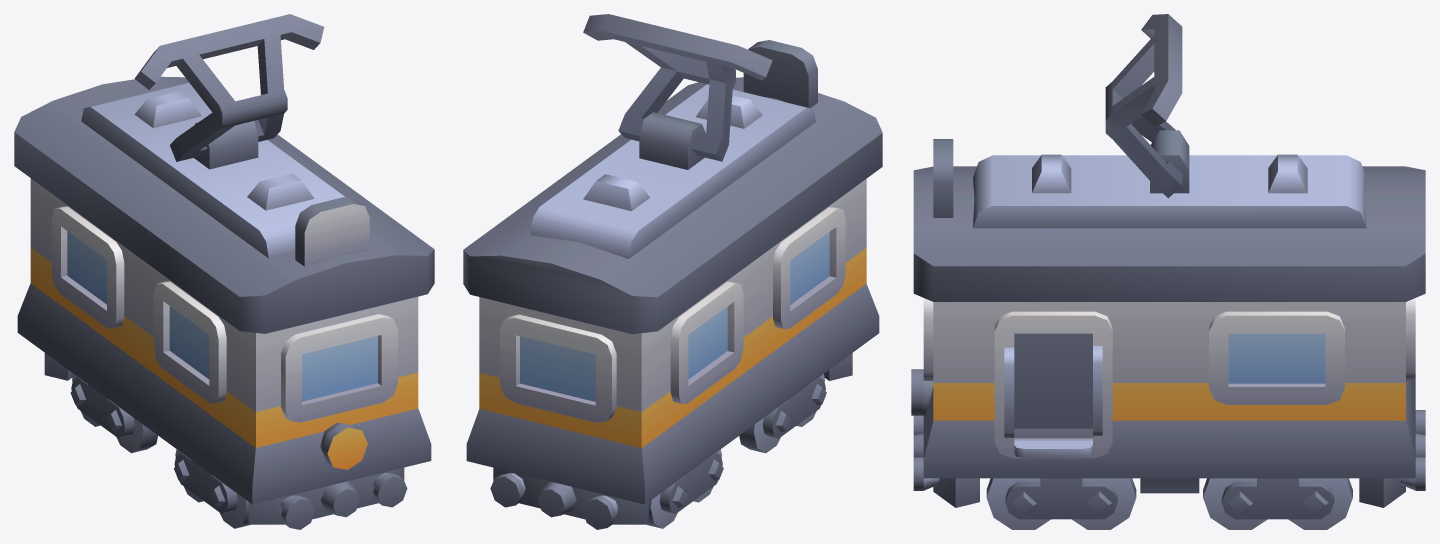
The model's file is k-train-train-tram-classic.glb.
3 renders of one model, left to right at view 1: azimuth 30°, elevation 25°; view 2: azimuth 150°, elevation 25°; view 3: azimuth 270°, elevation 25°, orthographic. The views are drawn at different scales.
Visible parts, largest first — view 1: train-tram-classic, collector, wheels-back, wheels-front; view 2: train-tram-classic, collector, wheels-front, wheels-back; view 3: train-tram-classic, collector, wheels-front, wheels-back.
Part boxes in pixels (left/top/right/bottom): train-tram-classic: left=14, top=76, right=434, bottom=529; collector: left=134, top=14, right=324, bottom=161; wheels-back: left=70, top=374, right=157, bottom=453; wheels-front: left=174, top=449, right=250, bottom=528; train-tram-classic: left=463, top=40, right=882, bottom=529; collector: left=583, top=14, right=772, bottom=161; wheels-front: left=739, top=374, right=826, bottom=453; wheels-back: left=647, top=449, right=723, bottom=528; train-tram-classic: left=911, top=130, right=1425, bottom=507; collector: left=1105, top=14, right=1182, bottom=198; wheels-front: left=986, top=478, right=1136, bottom=529; wheels-back: left=1203, top=478, right=1352, bottom=529.
Bounding box in the file's own units: 1.25 × 2.52 × 2.61.
1 material, 1 textured.
